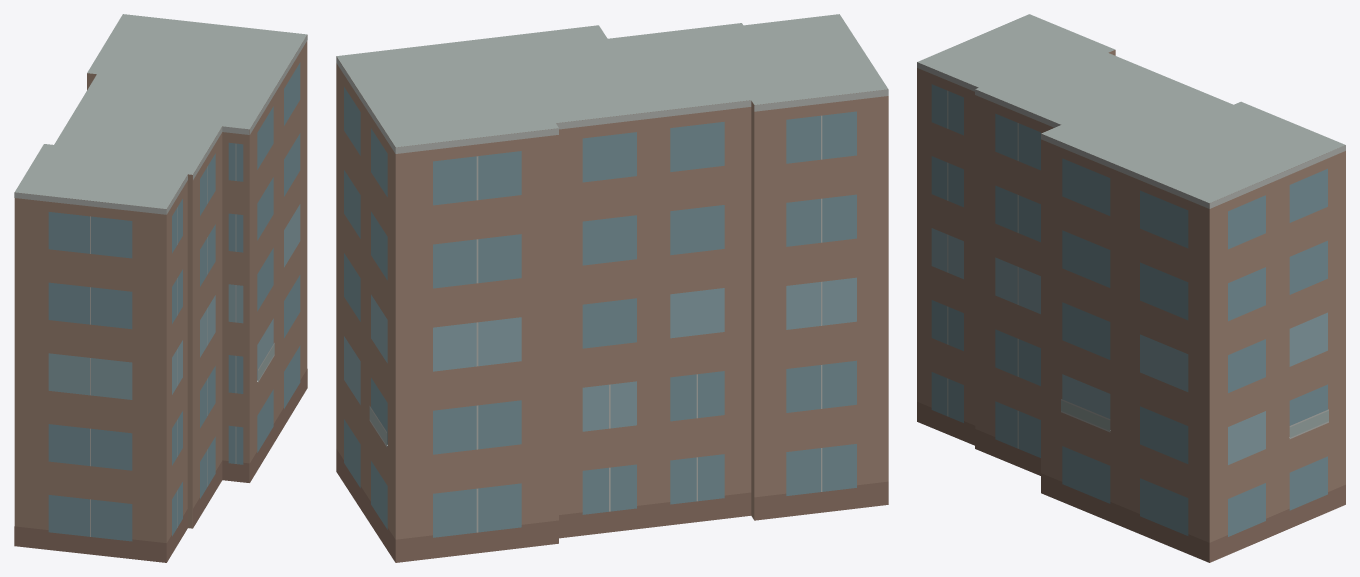
The model's file is survey-upis-32654493.glb.
3 renders of one model, left to right at view 1: azimuth 30°, elevation 25°; view 2: azimuth 150°, elevation 25°; view 3: azimuth 270°, elevation 25°, orthographic. The views are drawn at different scales.
Visible parts, largest first — view 1: survey-upis-32654493.tmp; view 2: survey-upis-32654493.tmp; view 3: survey-upis-32654493.tmp.
Boxes of the visible parts, left/top/right/bottom form: survey-upis-32654493.tmp: left=14, top=14, right=307, bottom=562; survey-upis-32654493.tmp: left=336, top=14, right=888, bottom=562; survey-upis-32654493.tmp: left=917, top=14, right=1345, bottom=562.
Size of the model in its own units: 17.22 by 15.25 by 16.49.
